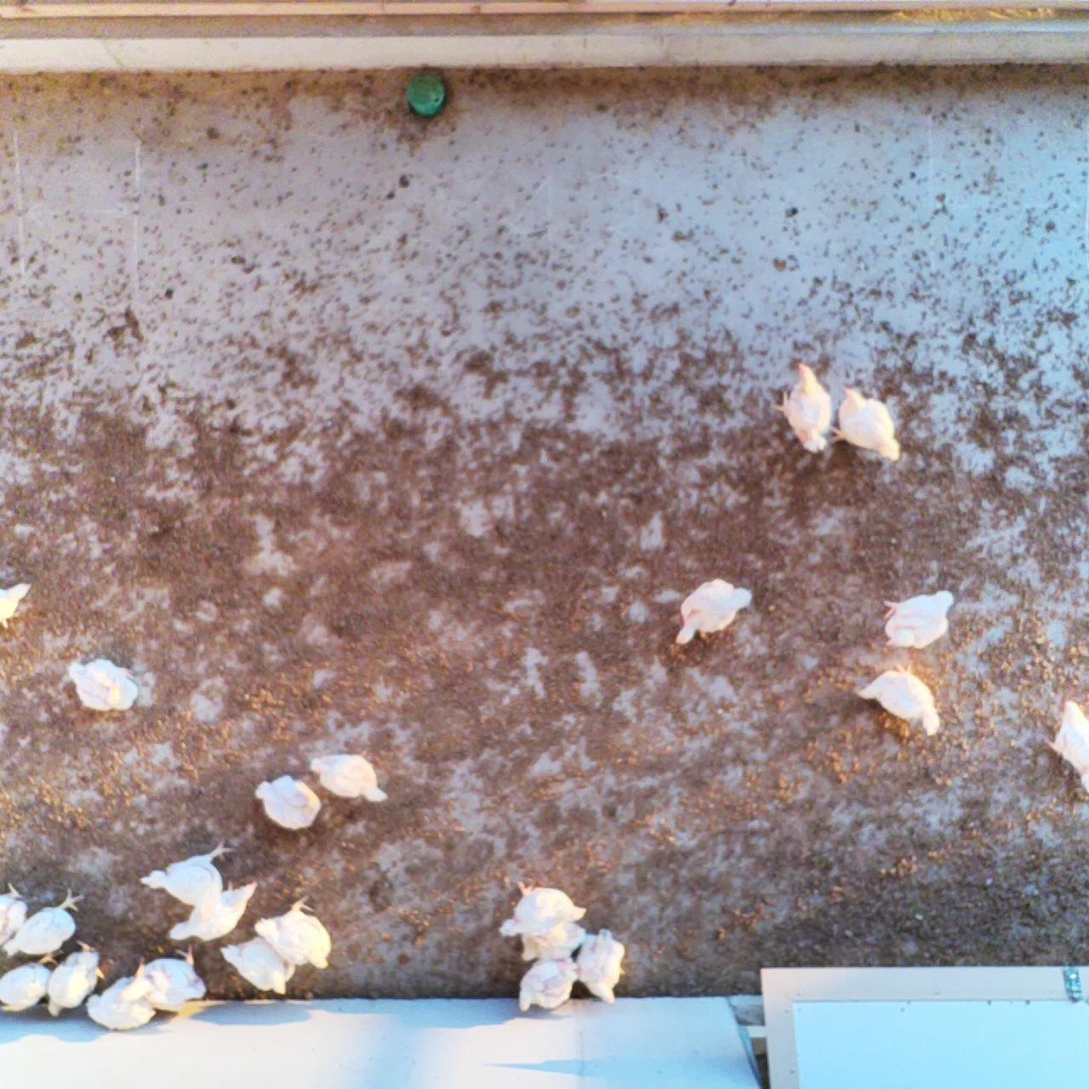chicken: (771, 359, 840, 454), (856, 662, 941, 737), (254, 893, 334, 971), (3, 886, 90, 957), (827, 386, 906, 462), (141, 839, 234, 903), (165, 879, 258, 941), (676, 575, 752, 647), (878, 583, 957, 651), (497, 881, 592, 934), (218, 936, 297, 998), (48, 939, 107, 1021), (252, 768, 324, 834), (136, 946, 208, 1012), (60, 653, 138, 713), (305, 749, 388, 805), (575, 923, 629, 1003), (0, 946, 60, 1018), (1047, 695, 1089, 797), (515, 960, 582, 1014), (89, 976, 156, 1030), (516, 921, 592, 963), (0, 882, 30, 944), (0, 577, 37, 627)
